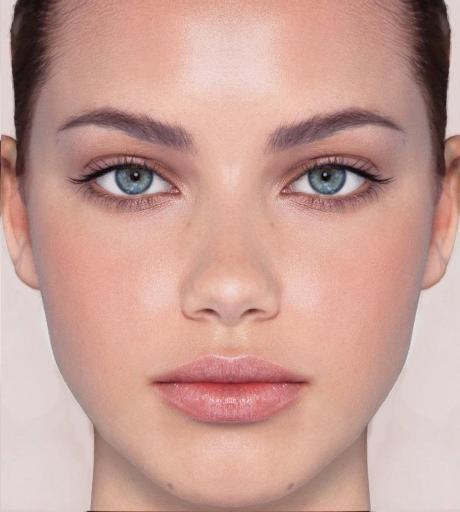left_eye: (280, 159, 386, 204)
left_lip_corner: (295, 372, 318, 394)
right_eye: (77, 165, 181, 207)
right_lip_corner: (145, 372, 170, 397)
